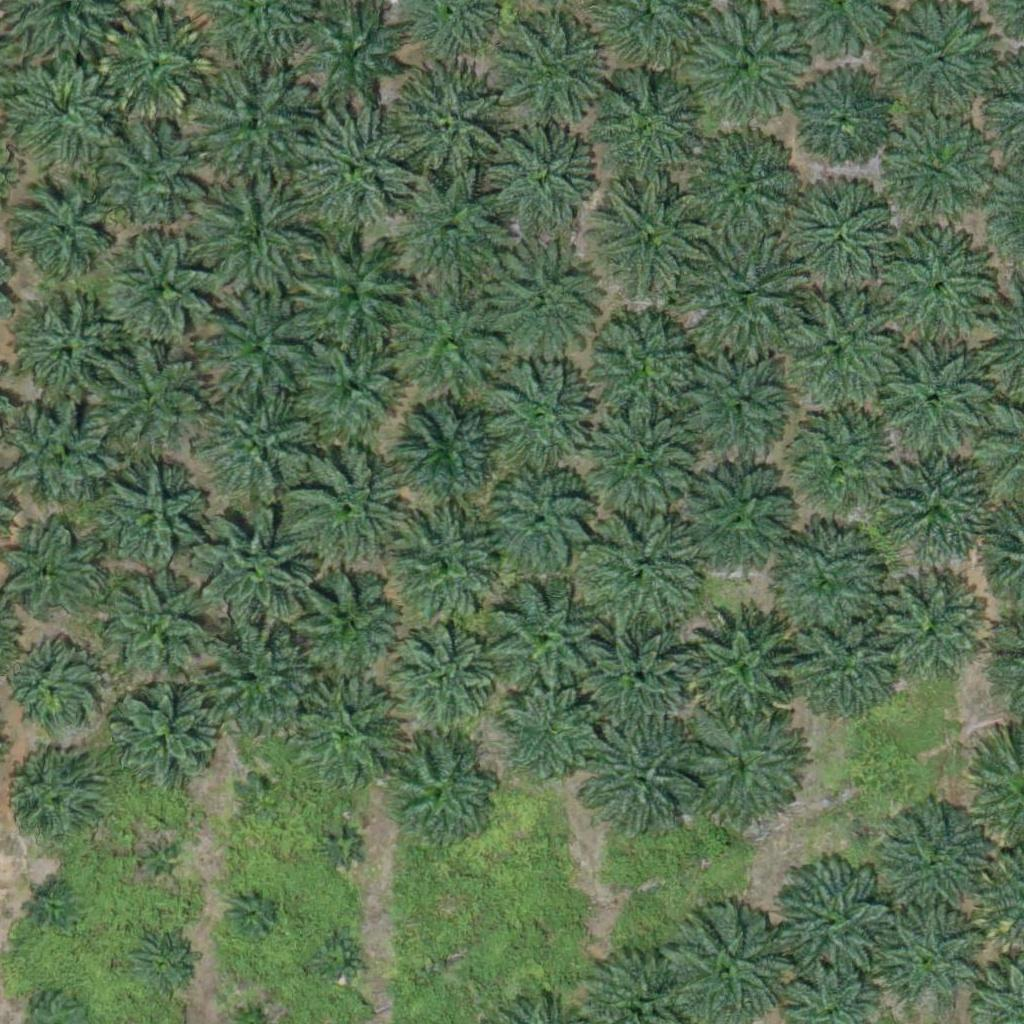Kelapa_Sawit: (681, 128, 806, 254), (587, 69, 712, 195), (587, 181, 712, 307), (382, 60, 507, 186), (390, 171, 515, 297), (286, 106, 411, 232), (192, 61, 317, 187), (182, 176, 307, 302), (95, 569, 220, 695), (198, 284, 323, 410), (196, 378, 321, 504), (191, 513, 316, 639), (191, 628, 316, 754), (288, 223, 413, 349), (292, 322, 417, 448), (288, 443, 413, 569), (278, 556, 403, 682), (380, 278, 505, 404), (474, 360, 599, 486), (477, 237, 602, 363), (479, 580, 604, 706), (584, 400, 709, 526), (583, 508, 708, 634), (579, 716, 704, 842), (765, 290, 890, 416), (678, 601, 803, 727), (682, 705, 807, 831), (769, 859, 894, 985), (584, 306, 709, 431), (770, 401, 895, 526), (759, 519, 884, 644), (380, 617, 493, 731), (392, 510, 505, 624), (493, 679, 606, 793), (878, 116, 991, 229), (13, 298, 126, 411), (112, 684, 225, 797), (384, 736, 497, 849), (395, 398, 508, 511), (679, 464, 792, 577), (680, 350, 793, 463), (693, 235, 806, 348), (785, 609, 898, 722), (92, 345, 204, 459), (795, 185, 907, 298), (481, 121, 593, 234), (497, 15, 609, 128), (100, 7, 212, 120), (99, 123, 211, 236), (6, 176, 118, 289), (6, 52, 118, 165), (107, 232, 219, 345), (94, 458, 206, 571), (291, 684, 403, 797), (485, 468, 597, 581), (577, 624, 689, 737), (876, 572, 988, 685), (883, 447, 995, 560), (875, 344, 987, 457), (880, 234, 992, 347), (795, 71, 895, 172), (890, 810, 990, 911), (878, 908, 978, 1009), (132, 933, 194, 996), (227, 885, 277, 935), (316, 822, 366, 872), (312, 933, 362, 983), (132, 837, 182, 887), (235, 768, 285, 818), (34, 891, 72, 928)
